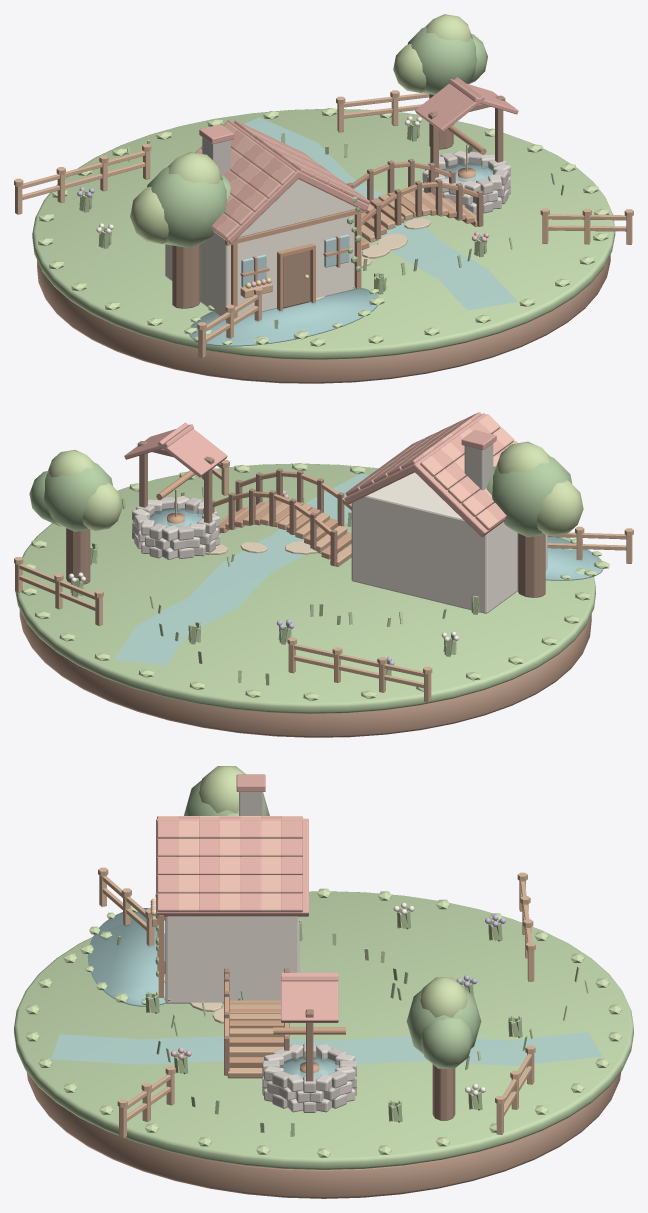
Rendered from cozy-village-detail.glb.
The picture shows the model from 3 angles, top to bottom: view 1: azimuth 30°, elevation 25°; view 2: azimuth 150°, elevation 25°; view 3: azimuth 270°, elevation 25°; orthographic projection. The views are drawn at different scales.
Visible parts, largest first — view 1: Island_Grass.001, Island_Soil.001, Cottage_Walls.001, Stream_Water.001, PuddleReflection.001, Tree_0_Crown_0, Tree_1_Crown_0, Cottage_Gable.001, Tree_0_Trunk.001, Well_Roof_-1.001, Tree_0_Crown_1, Door.001 (+14 smaller); view 2: Island_Grass.001, Cottage_Walls.001, Island_Soil.001, Stream_Water.001, Tree_0_Crown_0, Tree_1_Crown_0, Tree_0_Crown_1, Tree_0_Trunk.001, Well_Roof_-1.001, PuddleReflection.001, Tree_1_Crown_1, Roof_Main_-1.001 (+14 smaller); view 3: Island_Grass.001, Island_Soil.001, Cottage_Walls.001, Stream_Water.001, PuddleReflection.001, Well_Roof_1.001, Tree_1_Crown_2, Tree_0_Crown_3, Roof_Main_1.001, Tree_1_Crown_0, Tree_1_Crown_3, Tree_1_Trunk.001 (+3 smaller).
Boxes of the visible parts, x1,y1,x2,y2 form: Island_Grass.001: [32, 108, 615, 359]; Island_Soil.001: [37, 255, 610, 383]; Cottage_Walls.001: [165, 213, 361, 319]; Stream_Water.001: [244, 117, 517, 310]; PuddleReflection.001: [189, 288, 378, 346]; Tree_0_Crown_0: [147, 167, 226, 247]; Tree_1_Crown_0: [407, 27, 476, 94]; Cottage_Gable.001: [238, 179, 355, 237]; Tree_0_Trunk.001: [172, 244, 200, 308]; Well_Roof_-1.001: [415, 77, 484, 132]; Tree_0_Crown_1: [130, 186, 168, 243]; Door.001: [283, 250, 310, 308]; Island_Grass.001: [15, 463, 595, 713]; Cottage_Walls.001: [351, 472, 547, 613]; Island_Soil.001: [19, 609, 591, 737]; Stream_Water.001: [114, 473, 368, 665]; Tree_0_Crown_0: [492, 456, 572, 537]; Tree_1_Crown_0: [44, 462, 112, 531]; Tree_0_Crown_1: [537, 480, 583, 536]; Tree_0_Trunk.001: [517, 533, 545, 597]; Well_Roof_-1.001: [158, 422, 227, 477]; PuddleReflection.001: [545, 537, 603, 580]; Tree_1_Crown_1: [83, 483, 122, 530]; Roof_Main_-1.001: [412, 413, 511, 536]; Island_Grass.001: [14, 891, 633, 1169]; Island_Soil.001: [26, 1072, 621, 1198]; Cottage_Walls.001: [165, 916, 299, 1003]; Stream_Water.001: [51, 1032, 602, 1065]; PuddleReflection.001: [87, 908, 165, 1006]; Well_Roof_1.001: [281, 972, 338, 1022]; Tree_1_Crown_2: [420, 1018, 473, 1068]; Tree_0_Crown_3: [199, 766, 245, 813]; Roof_Main_1.001: [156, 818, 308, 916]; Tree_1_Crown_0: [406, 989, 481, 1053]; Tree_1_Crown_3: [420, 977, 467, 1017]; Tree_1_Trunk.001: [432, 1064, 455, 1120].
Size of the model in its own units: 22.35 by 8.19 by 21.7.
